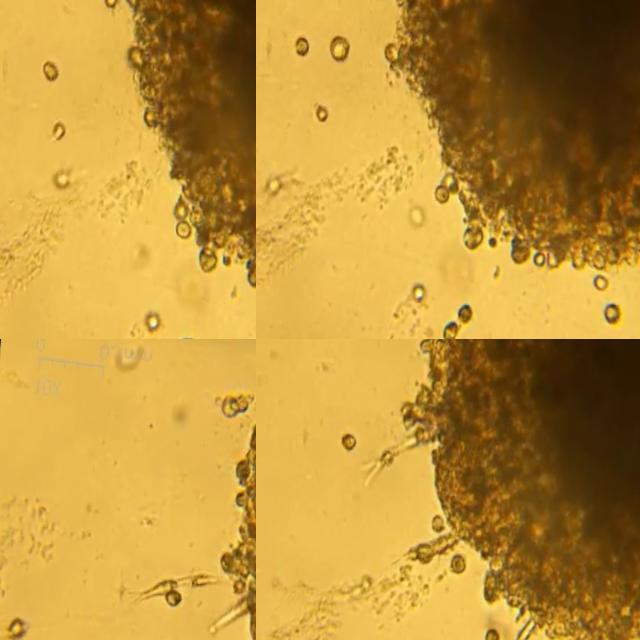cell: (219, 389, 246, 414), (260, 175, 283, 199), (147, 575, 177, 593), (329, 29, 346, 57), (6, 617, 26, 638), (335, 428, 356, 448), (188, 571, 217, 584), (41, 59, 59, 79), (143, 309, 158, 331), (49, 118, 65, 138), (601, 297, 619, 314), (293, 31, 306, 54), (449, 552, 464, 571), (482, 622, 497, 640), (441, 318, 454, 338), (407, 282, 422, 298), (164, 588, 181, 602), (456, 302, 471, 317), (314, 103, 325, 120), (430, 512, 442, 527), (592, 273, 608, 284), (104, 0, 114, 6)
tumor_mass: (353, 339, 640, 640)
